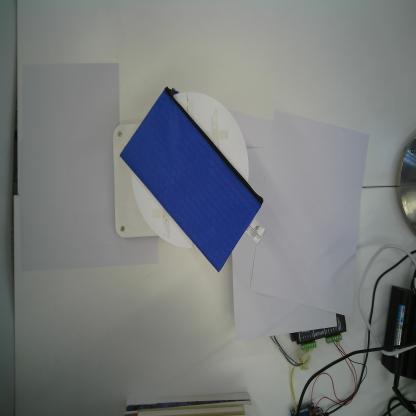Stationery: (118, 85, 267, 274)
